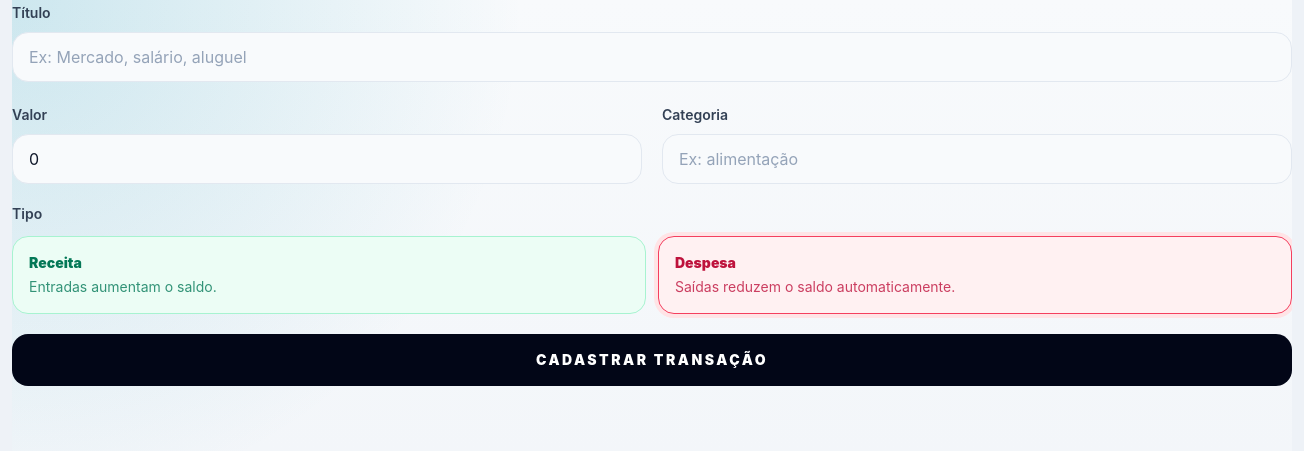
Test case: TransactionForm › shows validation messages when the form is invalid
Clear the number field labelled "Valor": (327, 159) [12,134,642,184]
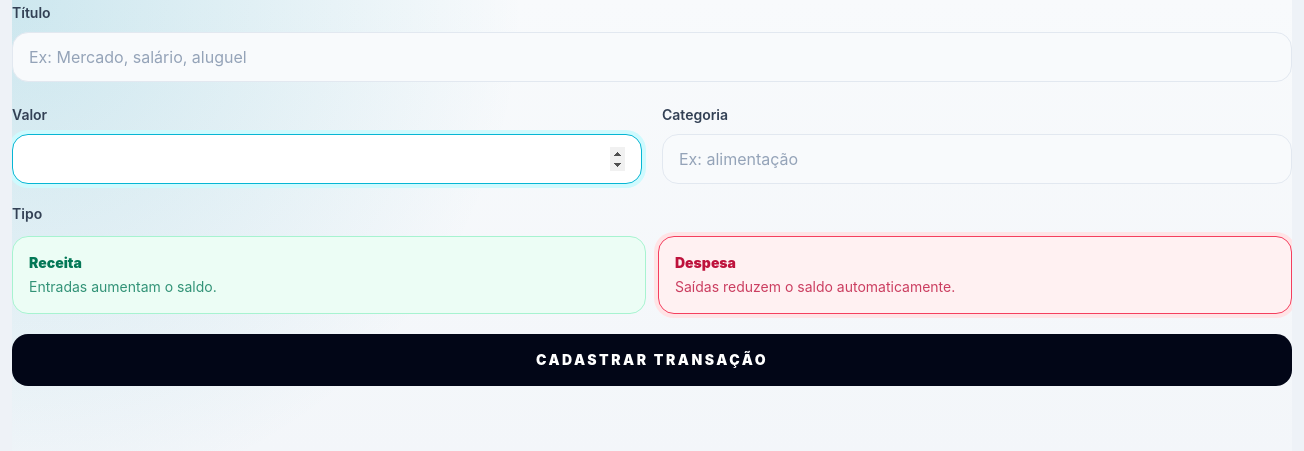
Click the button "Cadastrar transação": (652, 360) [12,334,1292,386]
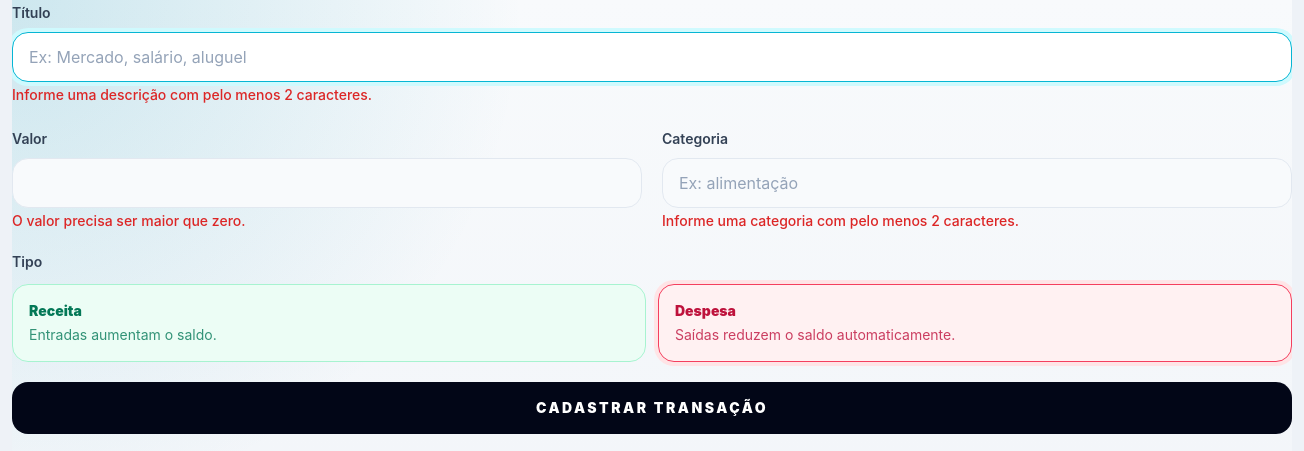
expect the text "Informe uma descrição com pelo menos 2 caracteres." is shown: met, box [12,86,372,103]
expect the text "O valor precisa ser maior que zero." is shown: met, box [12,212,246,229]
expect the text "Informe uma categoria com pelo menos 2 caracteres." is shown: met, box [662,212,1019,229]
